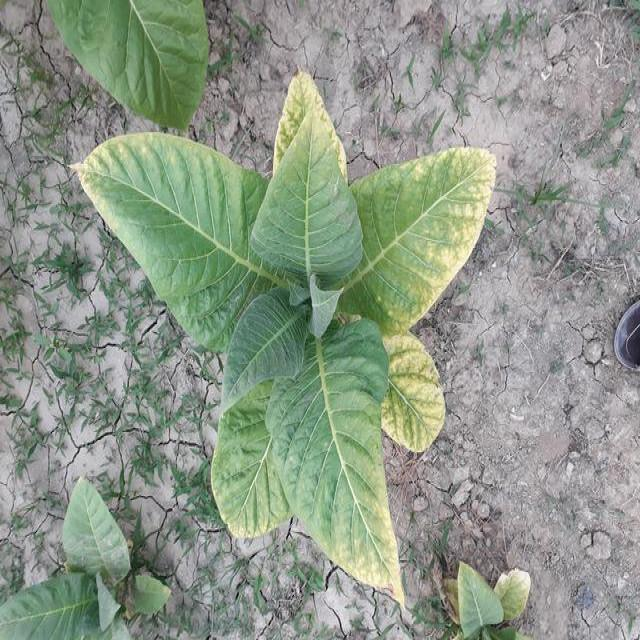crop: (66, 78, 496, 602)
